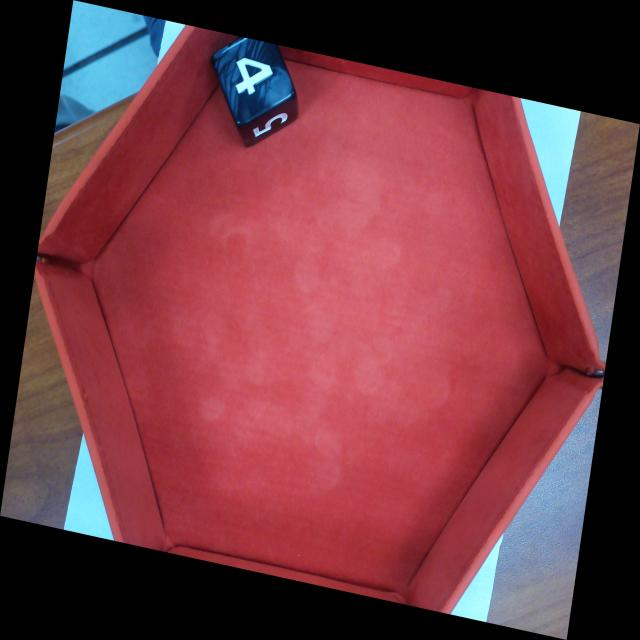dice: (208, 37, 299, 132)
